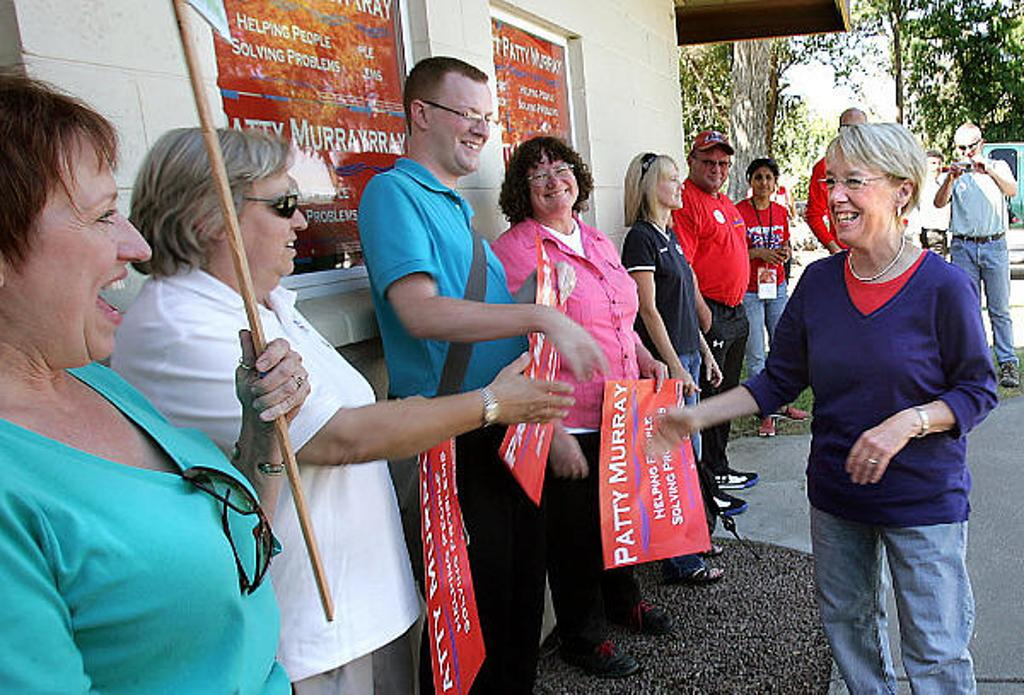face: (55, 186, 154, 357), (823, 154, 895, 240), (241, 183, 308, 273), (433, 85, 493, 169), (529, 161, 575, 207), (693, 148, 729, 190), (652, 165, 683, 207), (957, 134, 981, 161), (752, 167, 773, 195), (925, 157, 941, 175)
